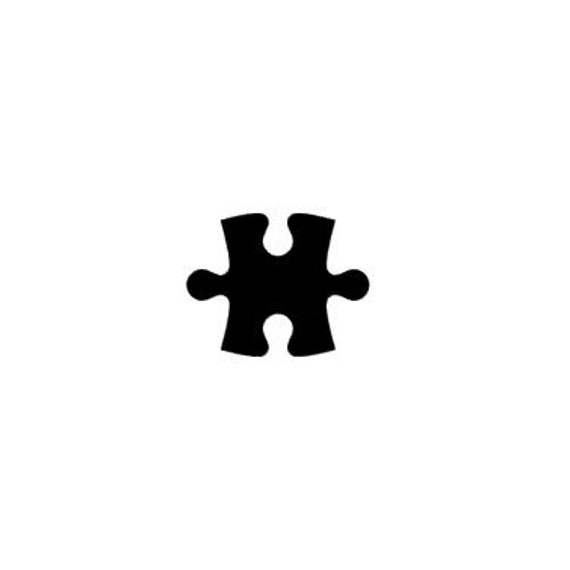puzzle piece: (177, 199, 384, 365)
